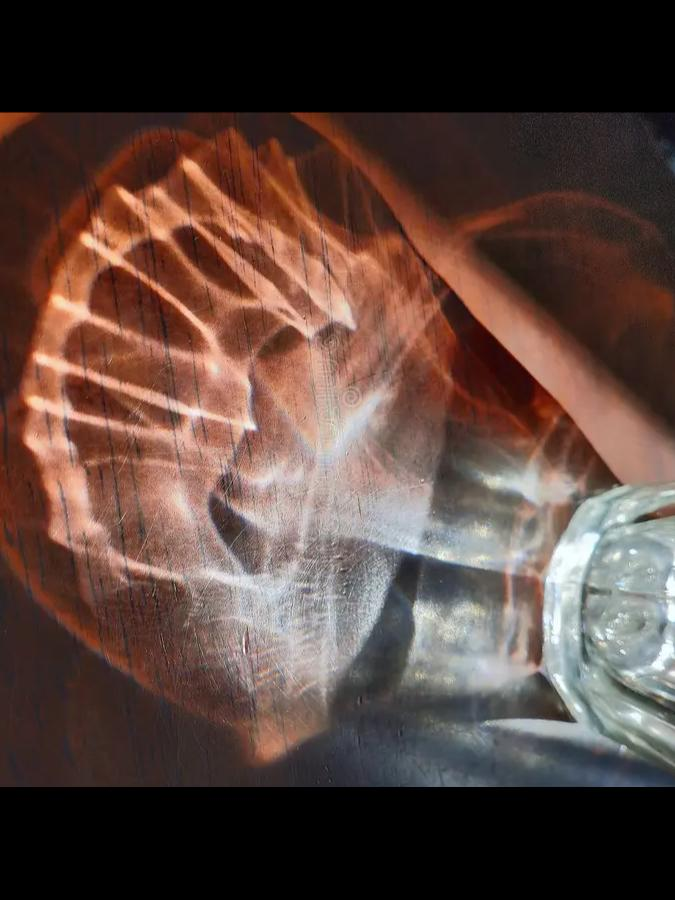controlled_fire: (46, 190, 675, 737)
